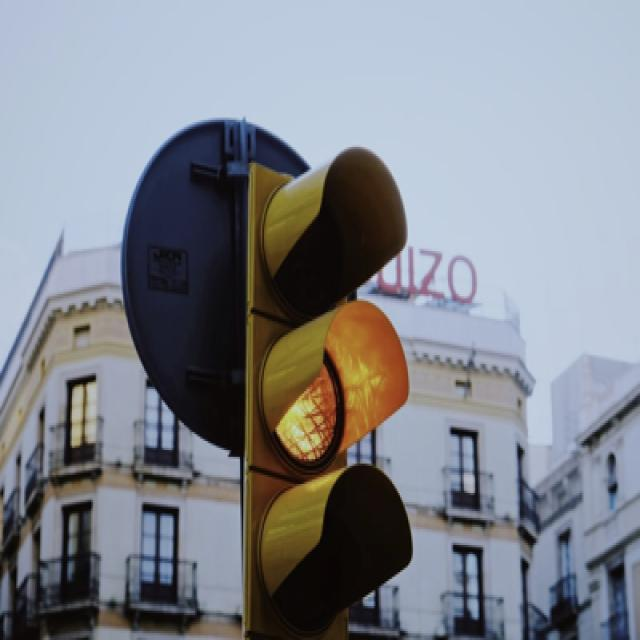yellow_light: (244, 149, 412, 639)
